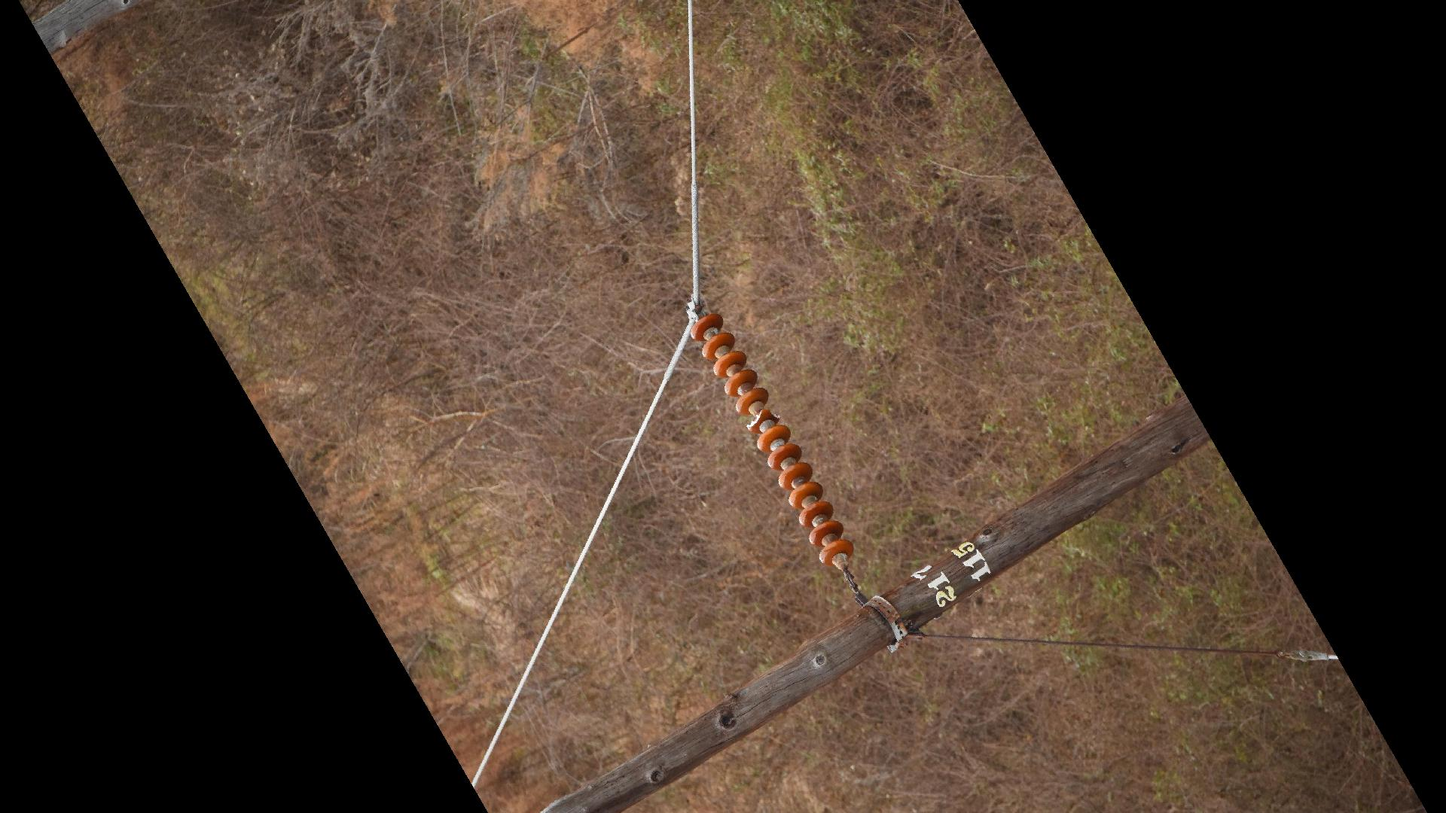insulator: (687, 310, 858, 572)
insulator_breakage: (743, 407, 765, 432), (765, 406, 785, 422)
